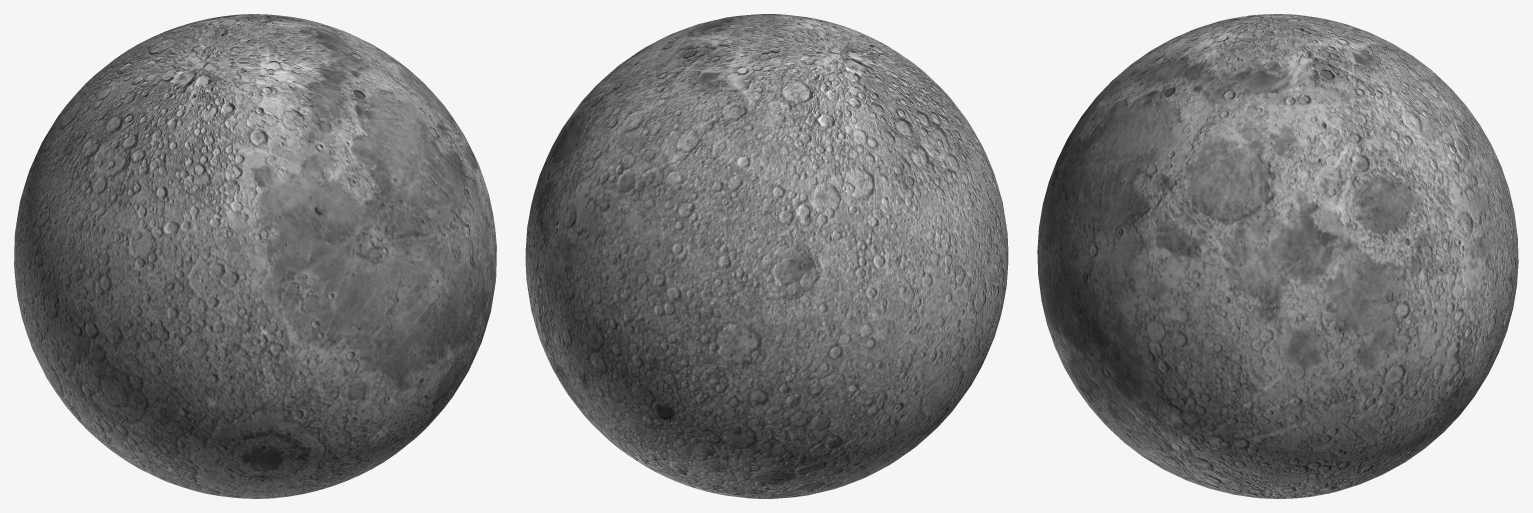
The model's file is moon.glb.
The picture shows the model from 3 angles, left to right: view 1: azimuth 30°, elevation 25°; view 2: azimuth 150°, elevation 25°; view 3: azimuth 270°, elevation 25°; orthographic projection.
Parts seen in each view (by area): view 1: Moon; view 2: Moon; view 3: Moon.
Part boxes in pixels (x1,y1,x2,y2): Moon: (14,14,496,498); Moon: (525,14,1008,498); Moon: (1037,14,1518,498).
Size of the model in its own units: 1.98 by 1.99 by 1.97.
Materials: 1 (1 with a texture image).
